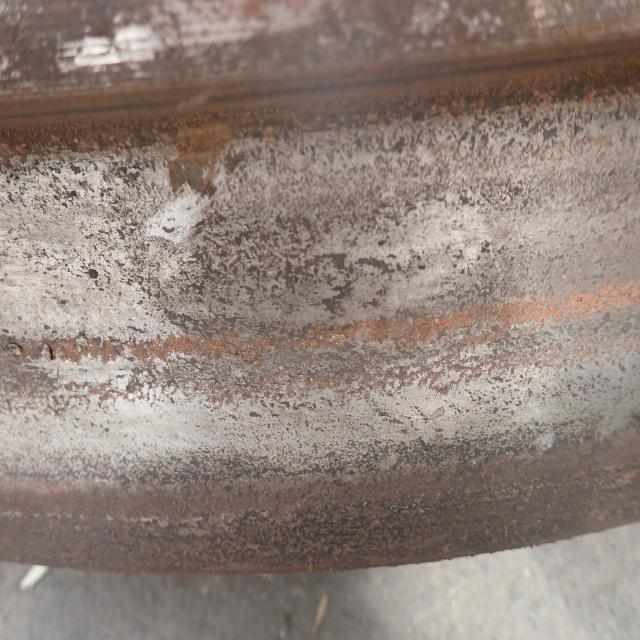Contact_Fatigue_Cracks: (225, 349, 268, 373)
Peeling: (2, 334, 65, 367)
